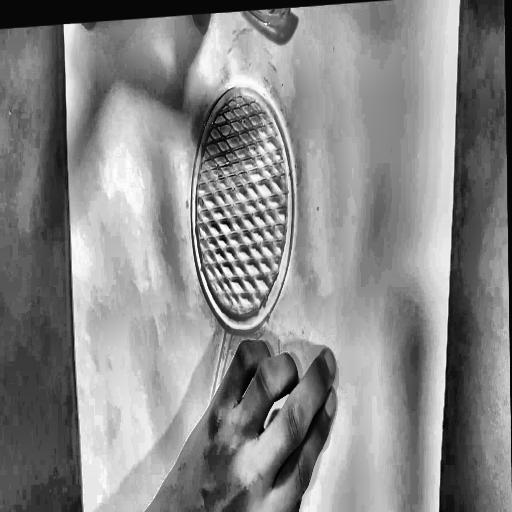badminton: (159, 71, 348, 511)
